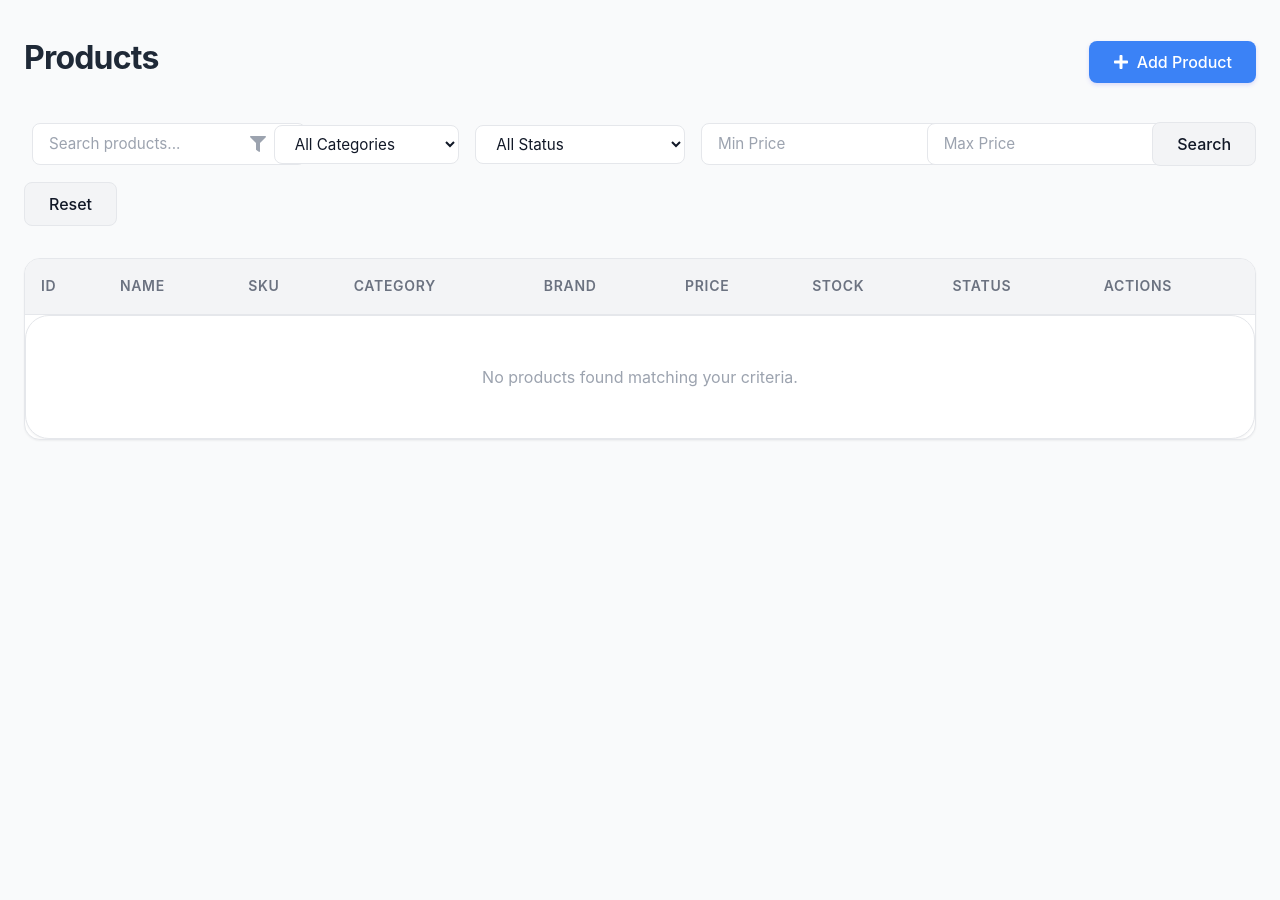
Test: Admin Products Page › should open add product modal
Step 1. Click the button "Add Product" → (1172, 62), box top-left (1089, 41), bottom-right (1256, 83)
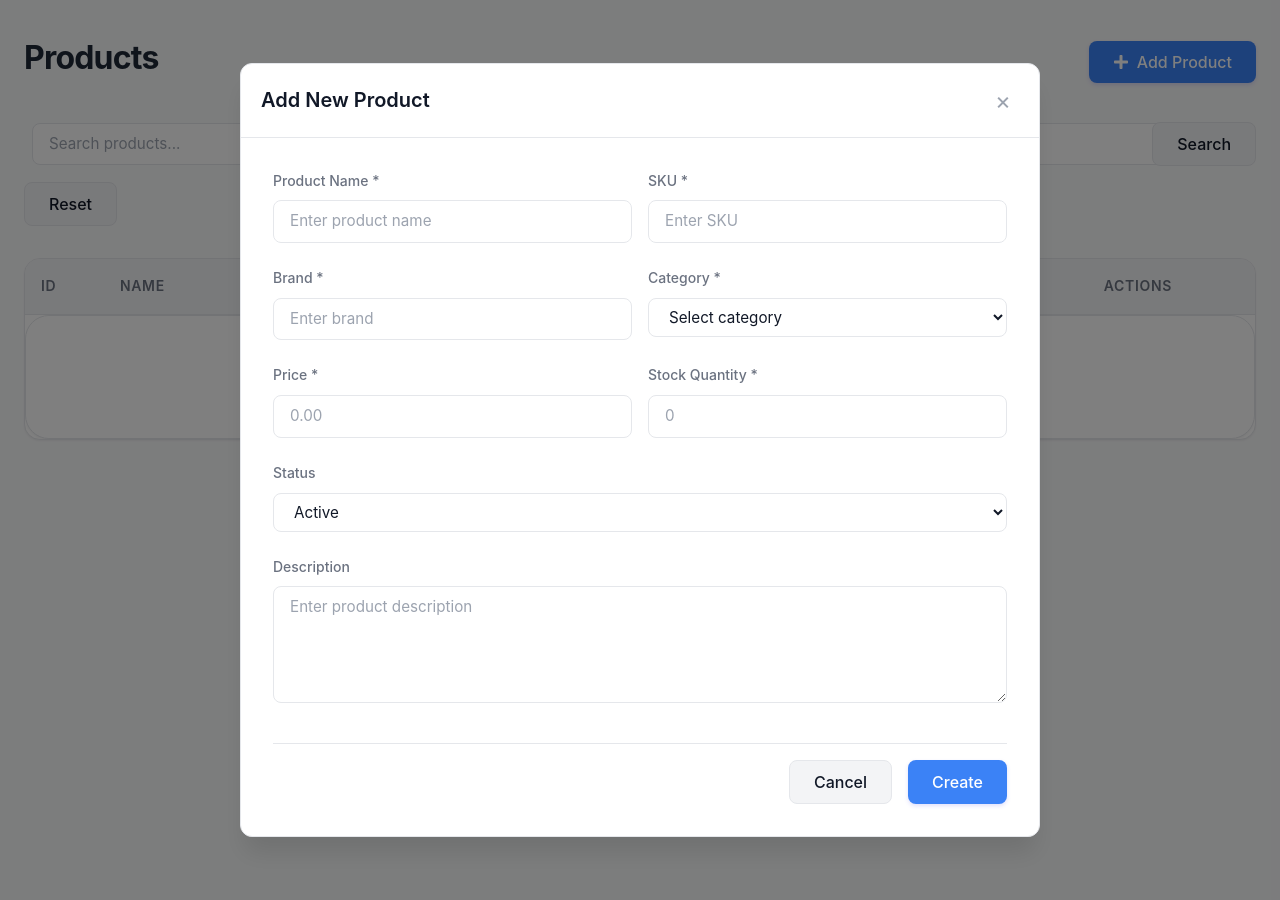
Now the heading "Add New Product" is shown, box top-left (261, 84), bottom-right (430, 116)
